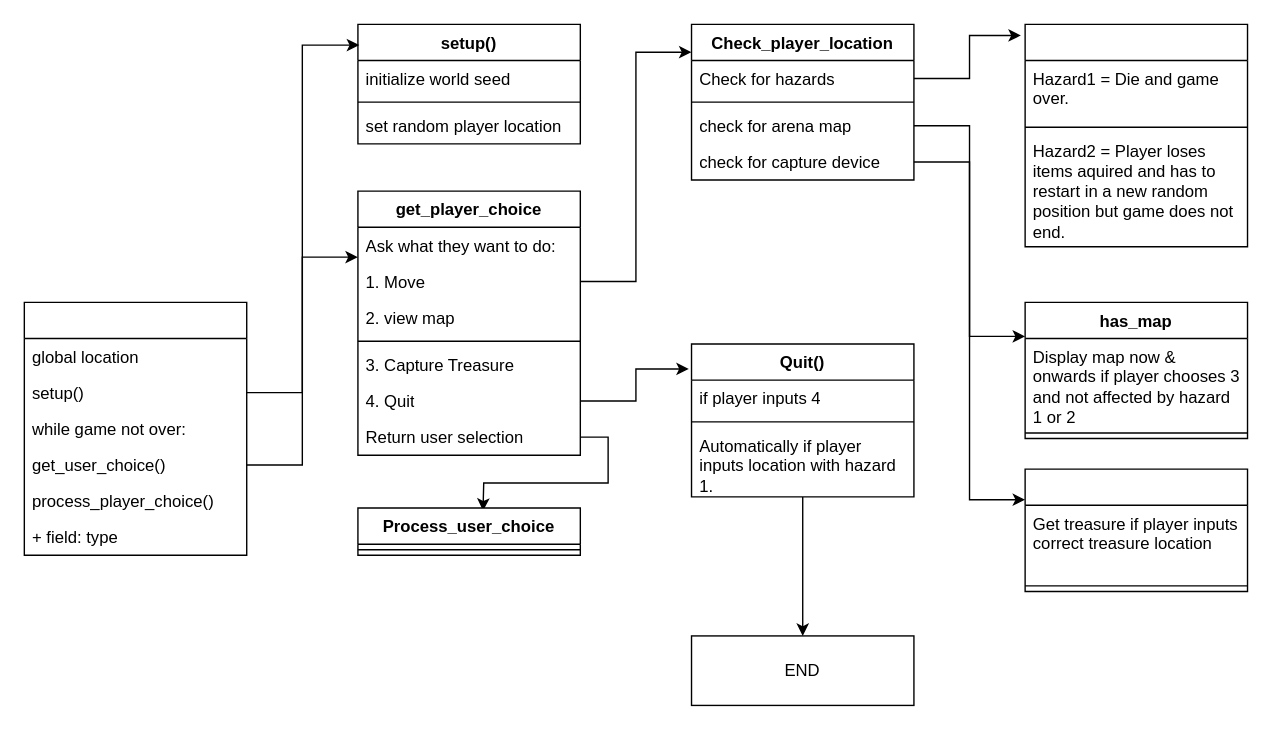
Image size: 1272x730. Some labels were removed from this diagram. The box of each missing label's shape, as (x1, y1, x2, y2) in pixels:
has_capture_device: (1024, 468, 1248, 591)
if has_hazards: (1024, 23, 1248, 247)
Main: (23, 301, 247, 555)
